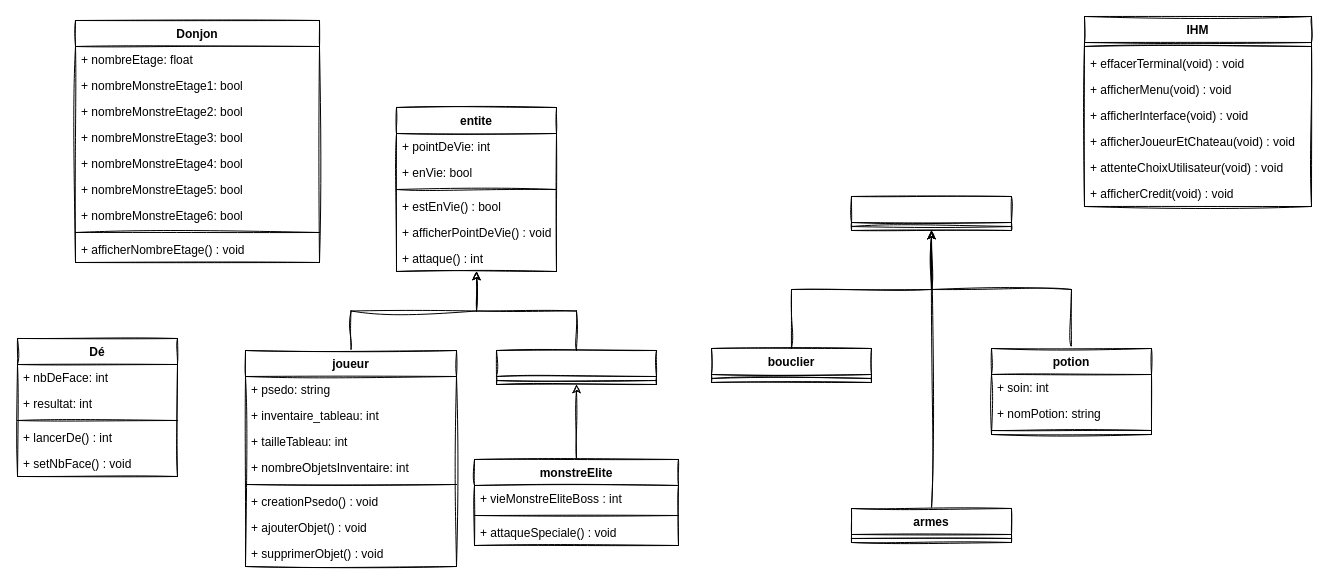
Some shapes in this 1329 by 584 pixel diagram are drawn without their labels. The shapes that lost their labels are listed below. From the top down, each one's centre as x and y in pixels, then its label:
the point at 931,213: Objets
the point at 576,367: monstre
